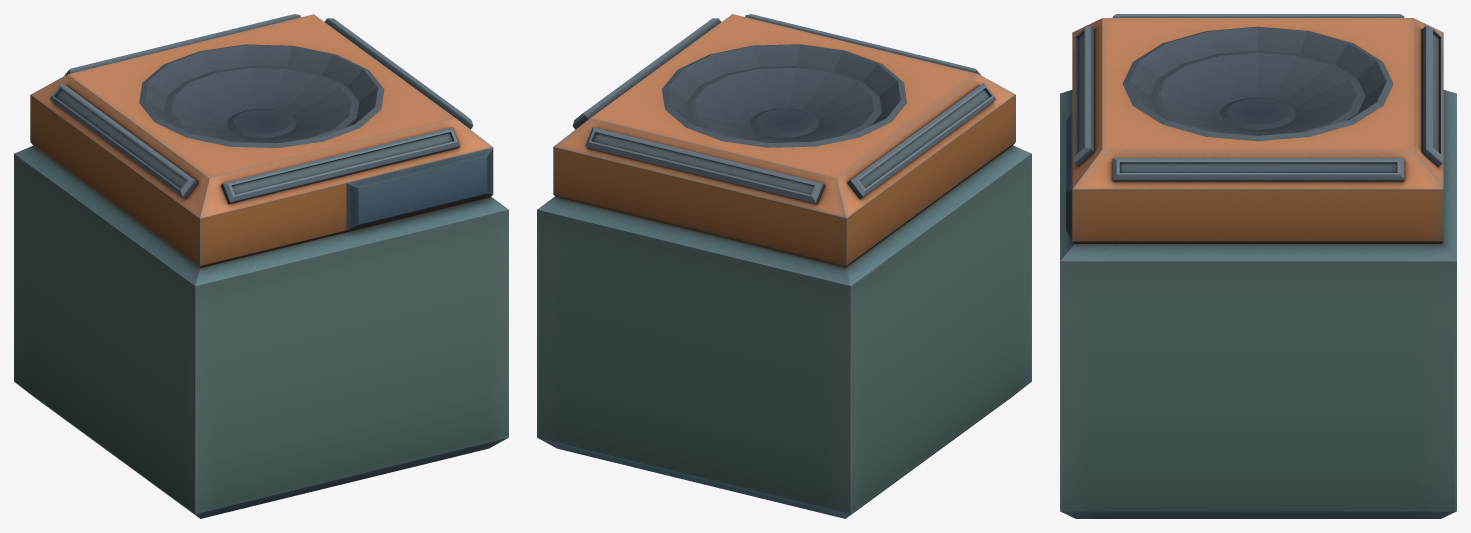
File: Teleporter.fbx
3 renders of one model, left to right at view 1: azimuth 30°, elevation 25°; view 2: azimuth 150°, elevation 25°; view 3: azimuth 270°, elevation 25°, orthographic. The views are drawn at different scales.
Visible parts, largest first — view 1: Teleporter; view 2: Teleporter; view 3: Teleporter.
Part boxes in pixels (x1,y1,x2,y2): Teleporter: (14, 14, 508, 518); Teleporter: (537, 14, 1031, 518); Teleporter: (1060, 14, 1456, 518).
Size of the model in its own units: 100 by 100 by 100.
